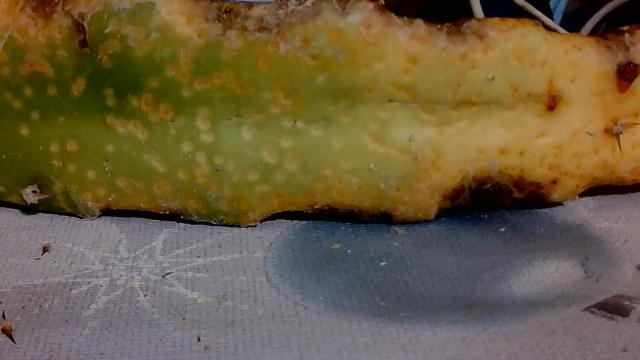stemcanker: (154, 95, 181, 126), (224, 113, 248, 143), (53, 174, 79, 197), (101, 78, 124, 102), (129, 59, 149, 83), (36, 134, 55, 155), (92, 138, 109, 157), (201, 80, 215, 92)
